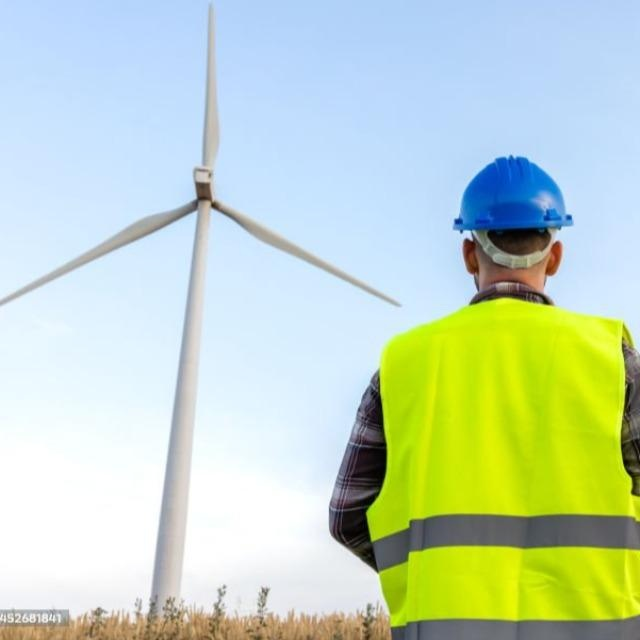Con_Casco: (450, 154, 574, 287)
Con_Chaleco: (378, 303, 639, 640)
